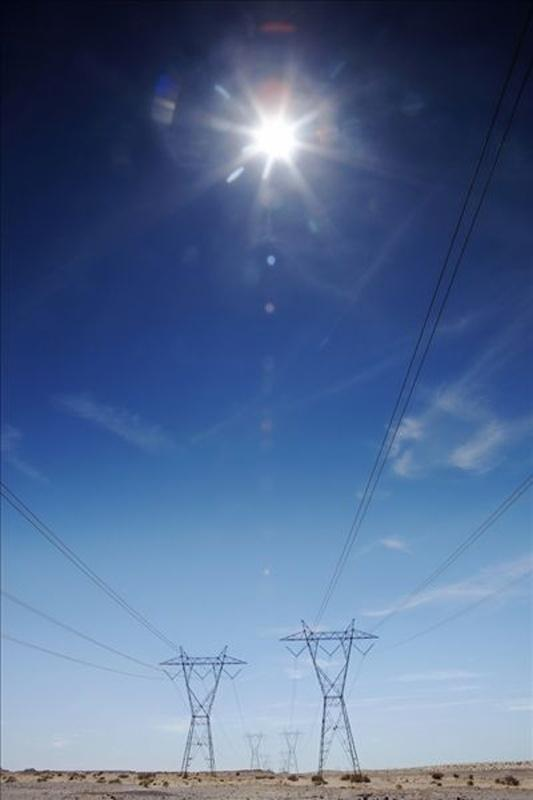power_tower: (280, 618, 380, 774), (154, 644, 248, 772), (278, 726, 306, 774), (240, 730, 266, 770)
